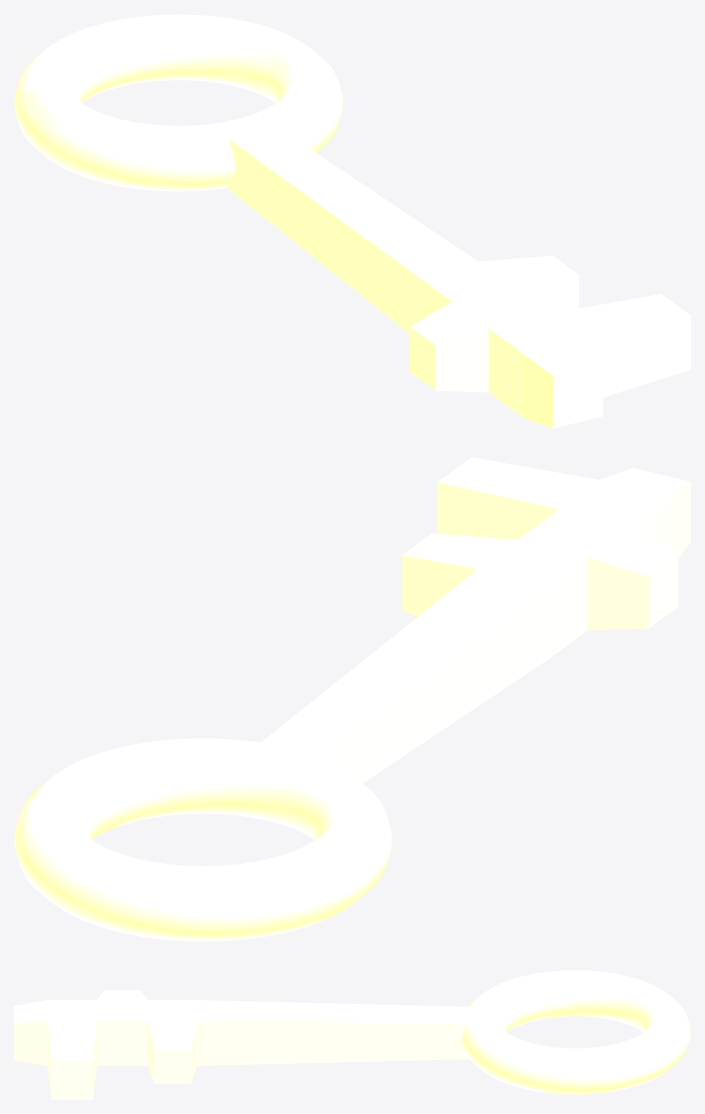
The model's file is Key.glb.
The picture shows the model from 3 angles, top to bottom: view 1: azimuth 30°, elevation 25°; view 2: azimuth 150°, elevation 25°; view 3: azimuth 270°, elevation 25°; orthographic projection. The views are drawn at different scales.
Visible parts, largest first — view 1: Ключ; view 2: Ключ; view 3: Ключ.
Part boxes in pixels (left/top/right/bottom): Ключ: left=14, top=14, right=690, bottom=428; Ключ: left=14, top=457, right=690, bottom=941; Ключ: left=14, top=970, right=690, bottom=1099.
Size of the model in its own units: 0.1079 by 0.0231 by 0.3155.
